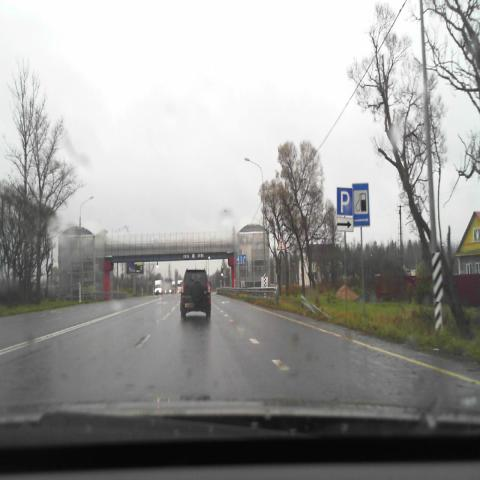6_4: (337, 187, 353, 215)
7_3: (352, 183, 370, 226)
8_3_1: (337, 218, 353, 232)
